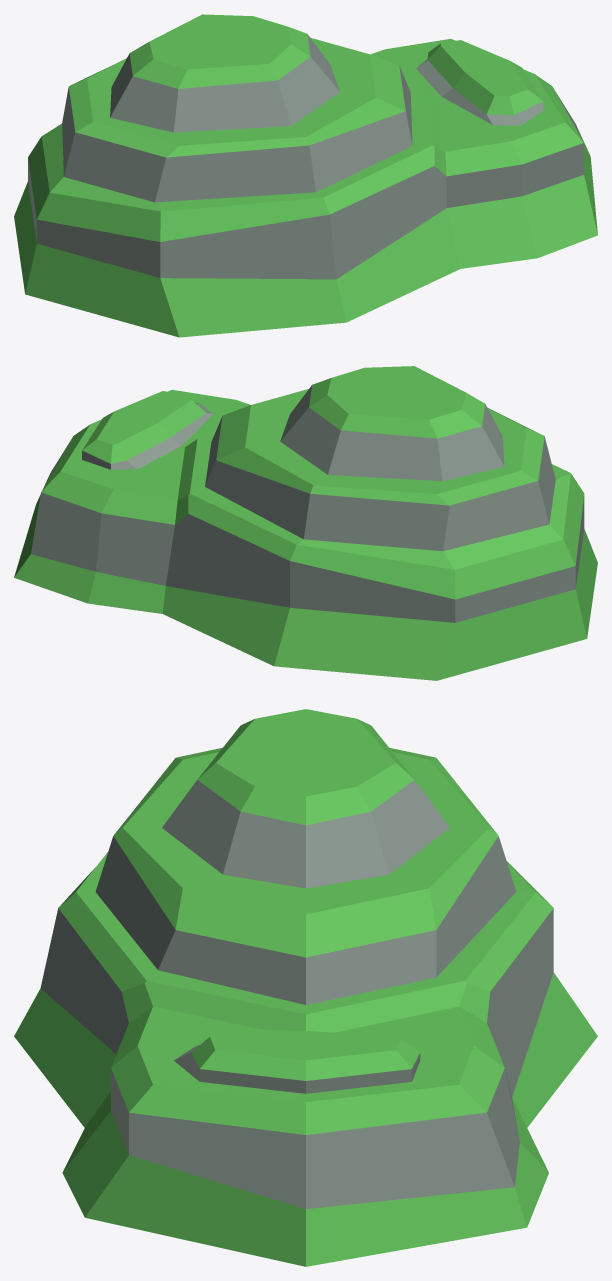
Rendered from Hill01.fbx.
3 renders of one model, top to bottom at view 1: azimuth 30°, elevation 25°; view 2: azimuth 150°, elevation 25°; view 3: azimuth 270°, elevation 25°, orthographic. The views are drawn at different scales.
Visible parts, largest first — view 1: Cube; view 2: Cube; view 3: Cube.
Part boxes in pixels (x1,y1,x2,y2): Cube: (14,14,597,337); Cube: (14,366,597,680); Cube: (14,709,597,1266).
Bounding box in the file's own units: 1847 × 636 × 1235.
